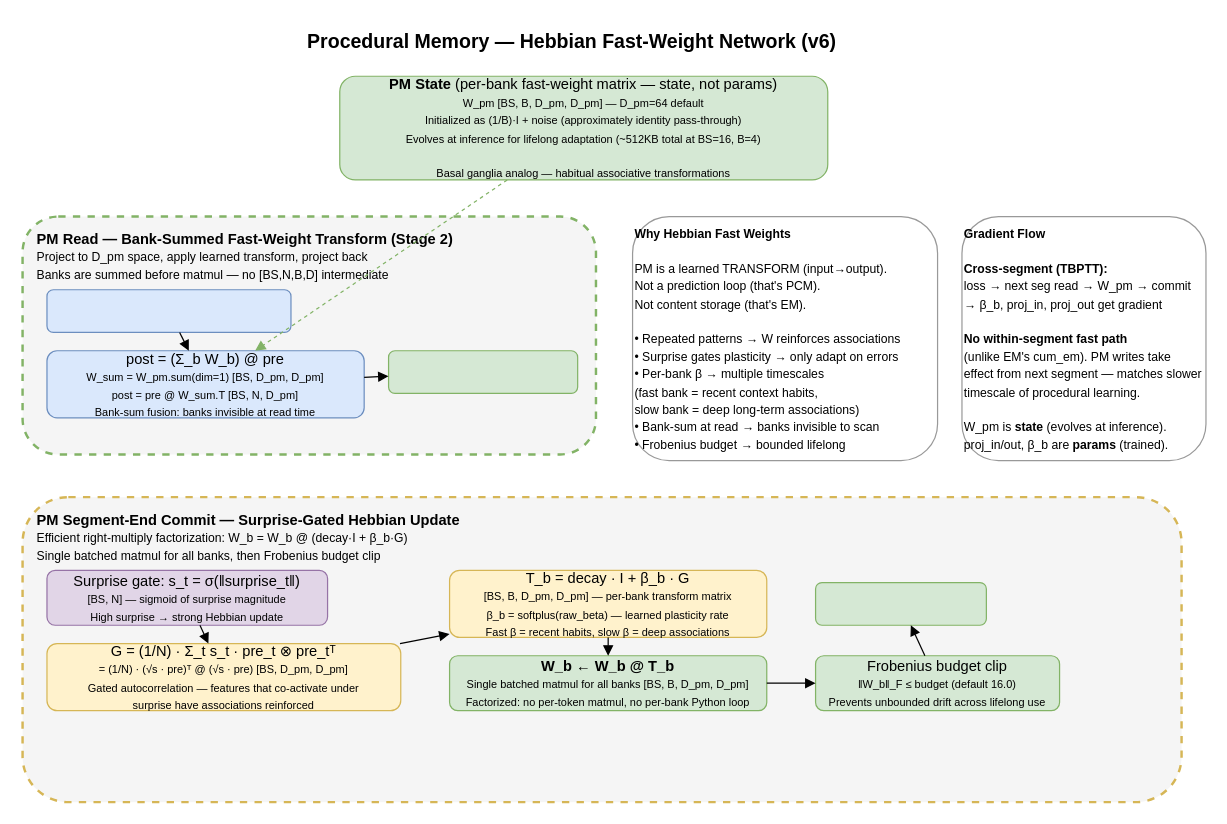
Image size: 1227x824. Some labels were removed from this diagram. Here are the shapes that lost their labels. From the top down, the centre of each, then its label:
At (x=168, y=310): "pre = proj_in(H) [BS, N, D] → [BS, N, D_pm] — fixed nn.Linear".
At (x=482, y=371): "pm_read = proj_out(post) [BS, N, D_pm] → [BS, N, D] — fixed nn.Linear".
At (x=900, y=603): "Updated W_pm Available for next segment".
